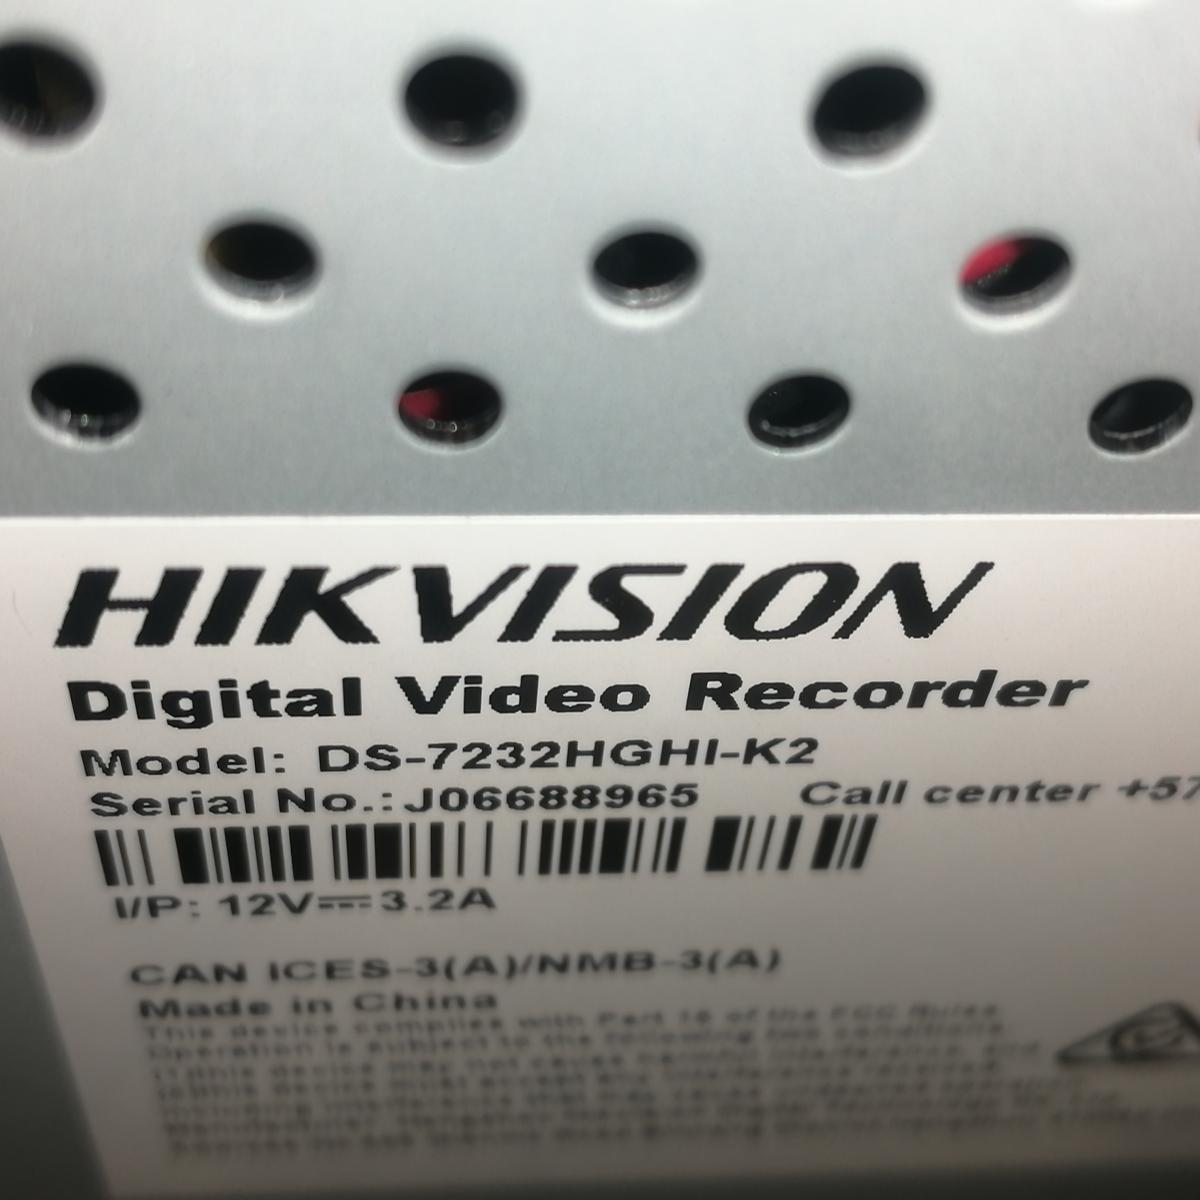Barcode: (70, 804, 922, 900)
Label: (1, 518, 1200, 1195)
